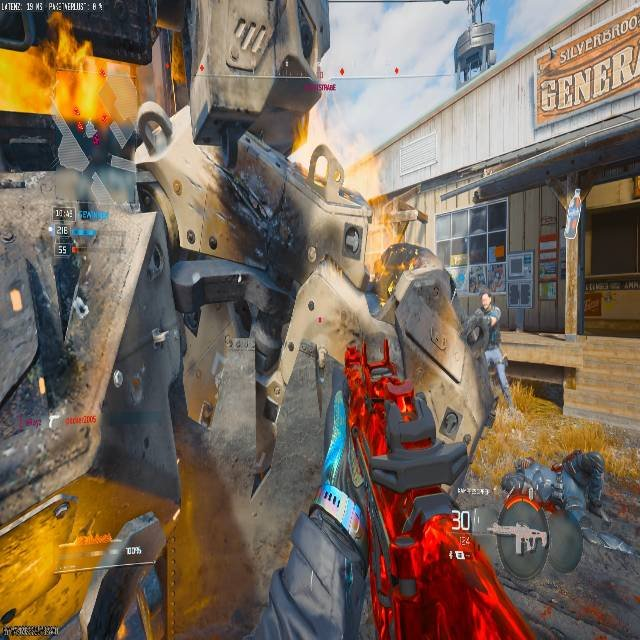head: (474, 296, 495, 316), (480, 292, 492, 309)
player: (261, 226, 397, 478), (463, 292, 513, 397), (450, 11, 497, 85)
